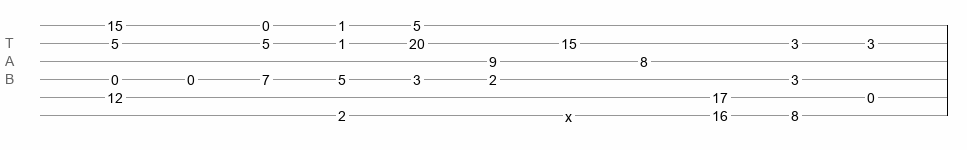0: (111, 72, 119, 82), (187, 72, 195, 82), (262, 18, 270, 28), (867, 90, 875, 100)
1: (338, 18, 346, 28), (338, 36, 346, 46)
12: (107, 90, 123, 100)
15: (107, 18, 123, 28), (561, 36, 577, 46)
16: (712, 108, 728, 118)
17: (712, 90, 728, 100)
2: (338, 108, 346, 118), (489, 72, 497, 82)
20: (409, 36, 425, 46)
3: (413, 72, 421, 82), (791, 36, 799, 46), (791, 72, 799, 82), (867, 36, 875, 46)
5: (111, 36, 119, 46), (262, 36, 270, 46), (338, 72, 346, 82), (413, 18, 421, 28)
7: (262, 72, 270, 82)
8: (640, 54, 648, 64), (791, 108, 799, 118)
9: (489, 54, 497, 64)
x: (565, 109, 572, 117)
